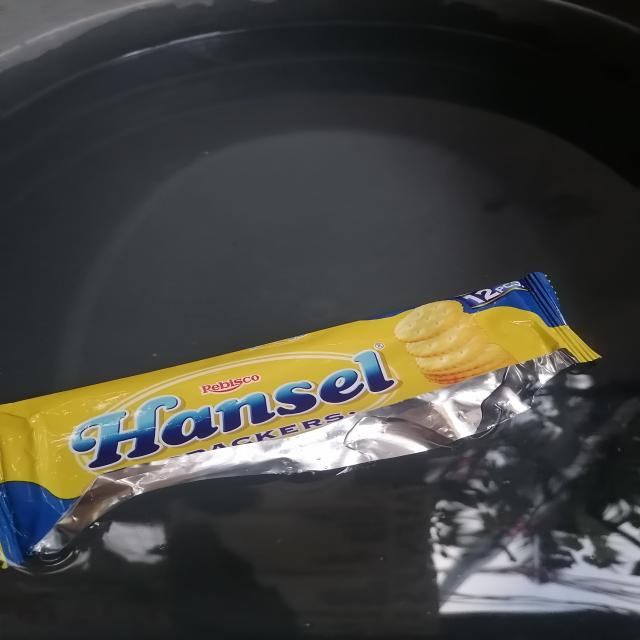Plastic Wrapper: (0, 260, 619, 590)
